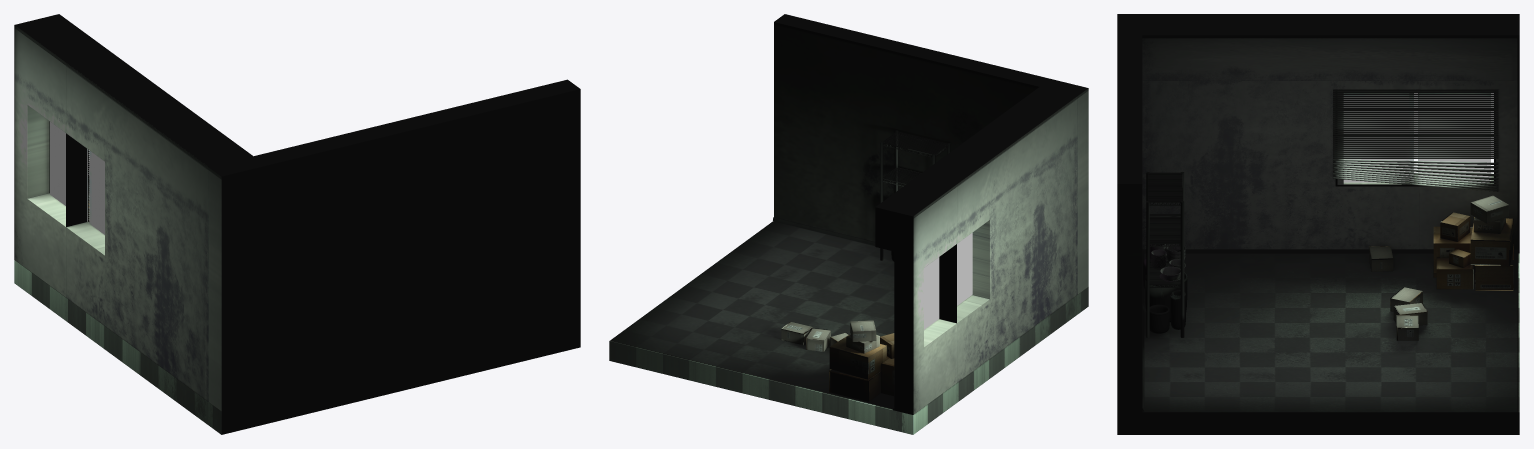
Rendered from pulsethreeJSExportBaked.gltf.
3 views of the same model, side by side, from view 1: azimuth 30°, elevation 25°; view 2: azimuth 150°, elevation 25°; view 3: azimuth 270°, elevation 25° (orthographic). The views are drawn at different scales.
Visible parts, largest first — view 1: Left Wall, Back Wall, Floor, Hang Block, Window Right, Window Left; view 2: Left Wall, Back Wall, Floor, Hang Block, Big Box.001, Racks, Big Box, Window Left, Window Right, White Box.005, White Box.002, White Box.003 (+2 smaller); view 3: Floor, Back Wall, Hang Block, Blinds, Left Wall, Descending Blinds, Window Right, Window Left, Racks, Big Box.001, Bottom Wall Curve, Big Box (+15 smaller).
Boxes of the visible parts, x1=… form: Left Wall: x1=208, y1=79, x2=580, y2=411; Back Wall: x1=14, y1=19, x2=230, y2=401; Floor: x1=14, y1=260, x2=580, y2=434; Hang Block: x1=37, y1=14, x2=252, y2=161; Window Right: x1=50, y1=122, x2=87, y2=221; Window Left: x1=89, y1=150, x2=104, y2=234; Left Wall: x1=774, y1=14, x2=1088, y2=294; Back Wall: x1=894, y1=91, x2=1077, y2=414; Floor: x1=609, y1=221, x2=1088, y2=434; Hang Block: x1=875, y1=87, x2=1058, y2=251; Big Box.001: x1=829, y1=335, x2=886, y2=379; Racks: x1=883, y1=131, x2=948, y2=186; Big Box: x1=829, y1=369, x2=880, y2=401; Window Left: x1=957, y1=233, x2=972, y2=305; Window Right: x1=924, y1=257, x2=939, y2=329; White Box.005: x1=850, y1=320, x2=876, y2=341; White Box.002: x1=781, y1=322, x2=812, y2=345; White Box.003: x1=806, y1=328, x2=830, y2=351; Floor: x1=1117, y1=253, x2=1519, y2=434; Back Wall: x1=1142, y1=14, x2=1519, y2=249; Hang Block: x1=1142, y1=24, x2=1519, y2=80; Blinds: x1=1333, y1=90, x2=1498, y2=158; Left Wall: x1=1117, y1=14, x2=1142, y2=412; Descending Blinds: x1=1333, y1=159, x2=1498, y2=191; Window Right: x1=1418, y1=93, x2=1490, y2=182; Window Left: x1=1343, y1=93, x2=1413, y2=182; Racks: x1=1147, y1=172, x2=1182, y2=287; Big Box.001: x1=1470, y1=217, x2=1513, y2=265; Bottom Wall Curve: x1=1143, y1=249, x2=1519, y2=253; Big Box: x1=1474, y1=244, x2=1513, y2=290.
Bounding box in the file's own units: 16.02 × 11 × 16.
16 materials, 16 textured.
